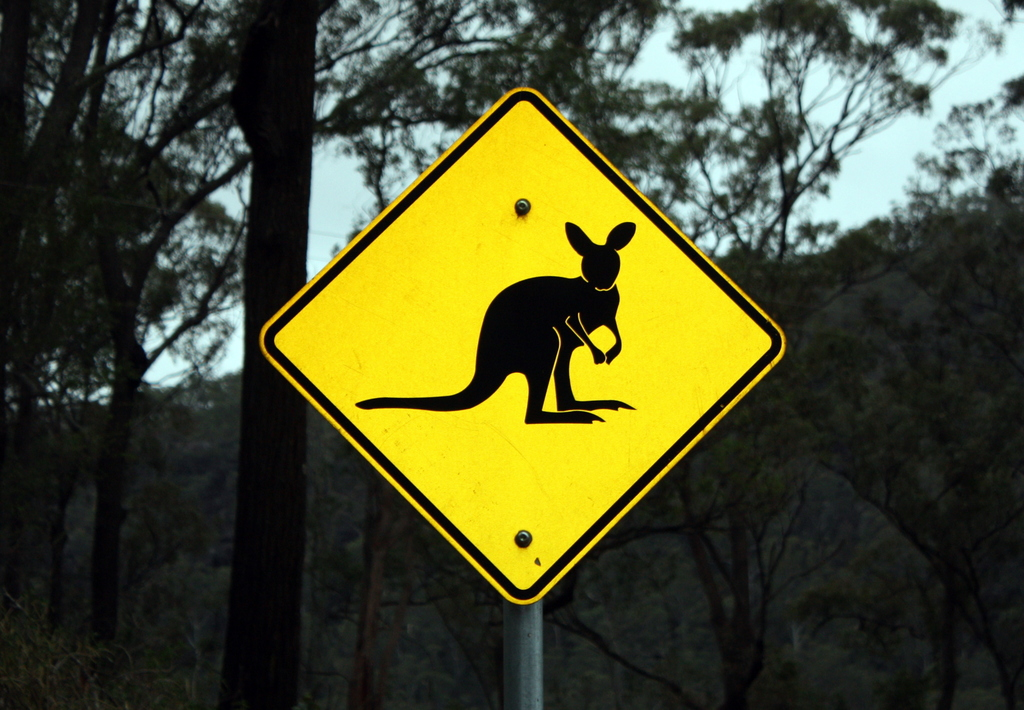animals_ahead: (246, 79, 787, 608)
